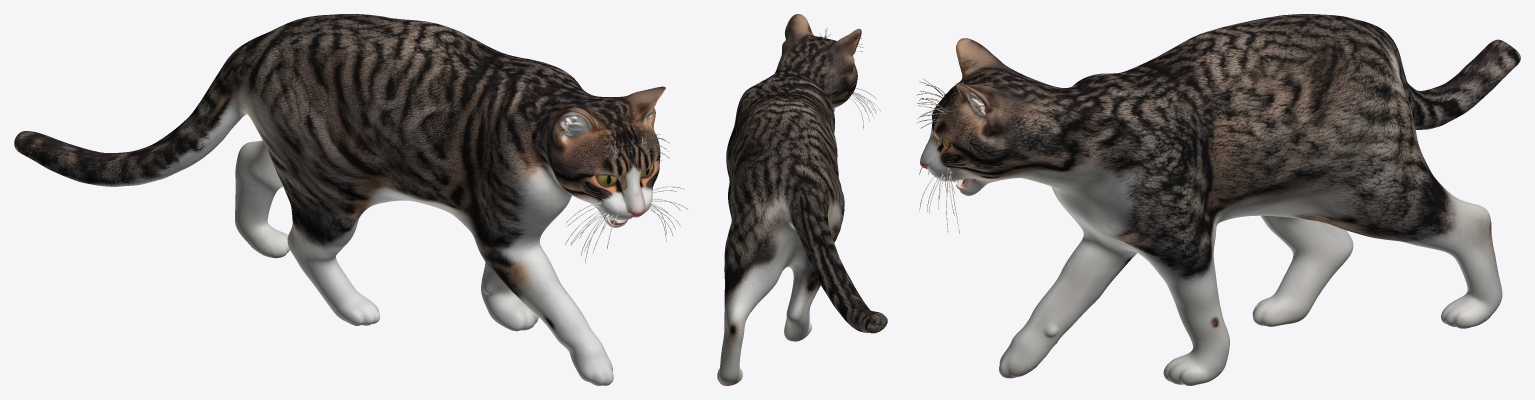
The model's file is 1780378623981-curious_cat_3d_model_free.glb.
3 views of the same model, side by side, from view 1: azimuth 30°, elevation 25°; view 2: azimuth 150°, elevation 25°; view 3: azimuth 270°, elevation 25° (orthographic). The views are drawn at different scales.
Parts seen in each view (by area): view 1: Object_6, Object_5, Object_7; view 2: Object_6, Object_5; view 3: Object_6, Object_5, Object_7.
Boxes of the visible parts, left/top/right/bottom form: Object_6: left=14, top=14, right=581, bottom=331; Object_5: left=272, top=14, right=687, bottom=385; Object_7: left=435, top=89, right=515, bottom=275; Object_6: left=717, top=76, right=887, bottom=385; Object_5: left=731, top=14, right=880, bottom=341; Object_6: left=1078, top=14, right=1520, bottom=385; Object_5: left=916, top=24, right=1367, bottom=378; Object_7: left=1046, top=128, right=1133, bottom=286.
Bounding box in the file's own units: 1.5 × 1.09 × 1.9.
1 material, 1 textured.
